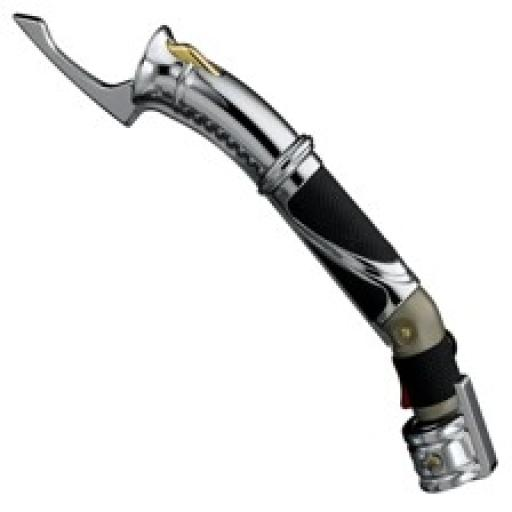lightsaber: (15, 9, 499, 495)
